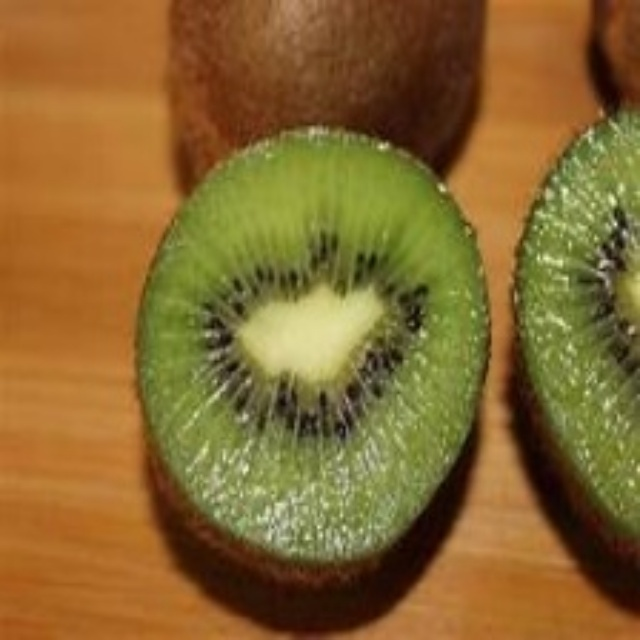kiwi: (130, 132, 483, 593), (500, 105, 639, 537), (163, 3, 475, 154)
